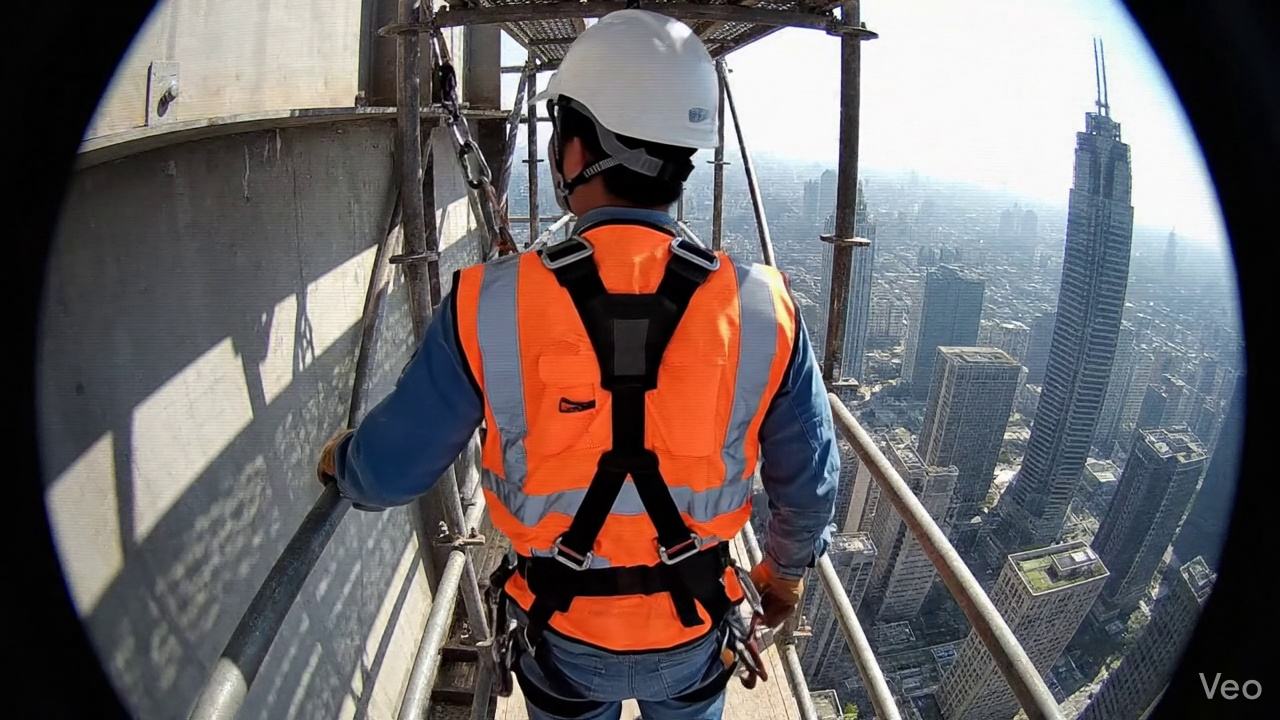person: (318, 9, 838, 719)
